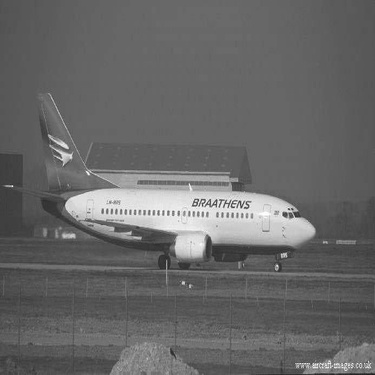airplane: (27, 77, 323, 285)
